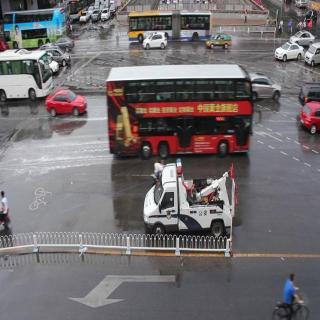BigCar: (100, 61, 258, 162), (124, 4, 214, 46), (0, 48, 55, 105)
Car: (138, 164, 241, 241), (44, 85, 88, 122), (246, 68, 283, 107), (271, 38, 303, 66), (140, 27, 169, 55), (205, 28, 233, 51), (287, 26, 315, 46), (304, 39, 320, 68), (100, 7, 111, 24), (90, 8, 100, 25), (77, 8, 78, 9)
